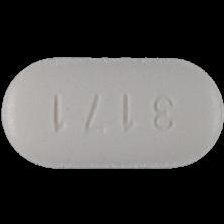21695-901: (0, 0, 224, 224)
